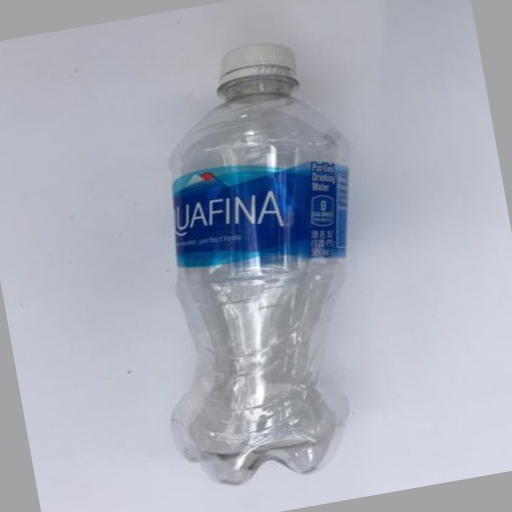Plastic_0: (170, 45, 348, 483)
